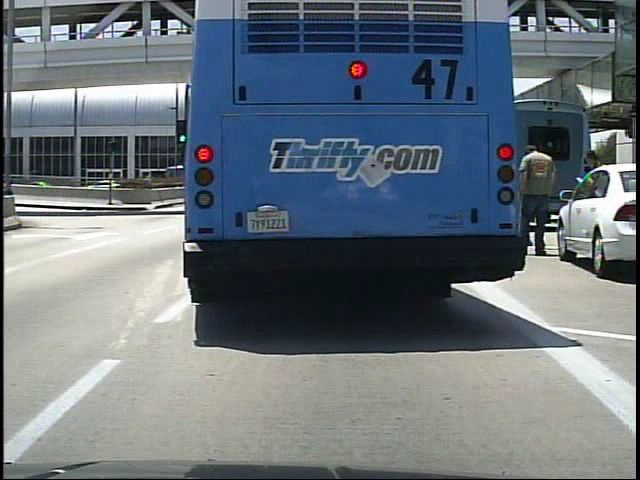person: (521, 140, 556, 257), (581, 147, 610, 256)
